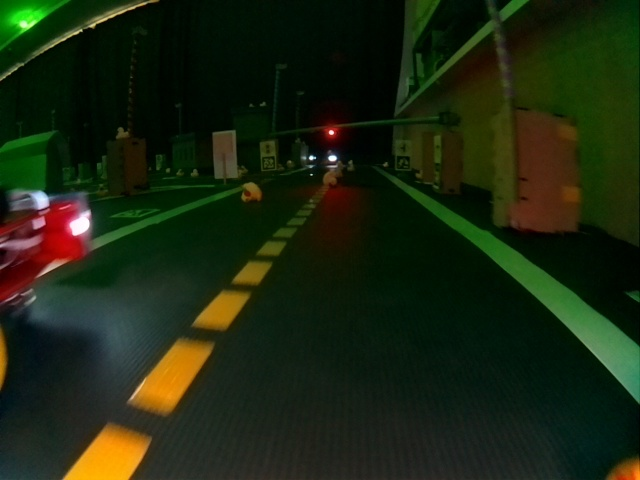Duckie: (241, 181, 262, 202), (323, 172, 338, 187)
Duckiebot: (0, 186, 93, 396)
Intersection sign: (396, 140, 410, 154)
QR code: (396, 156, 410, 169), (261, 157, 275, 169)
Signal sign: (260, 142, 275, 155)
Traffic light: (326, 124, 336, 137)
